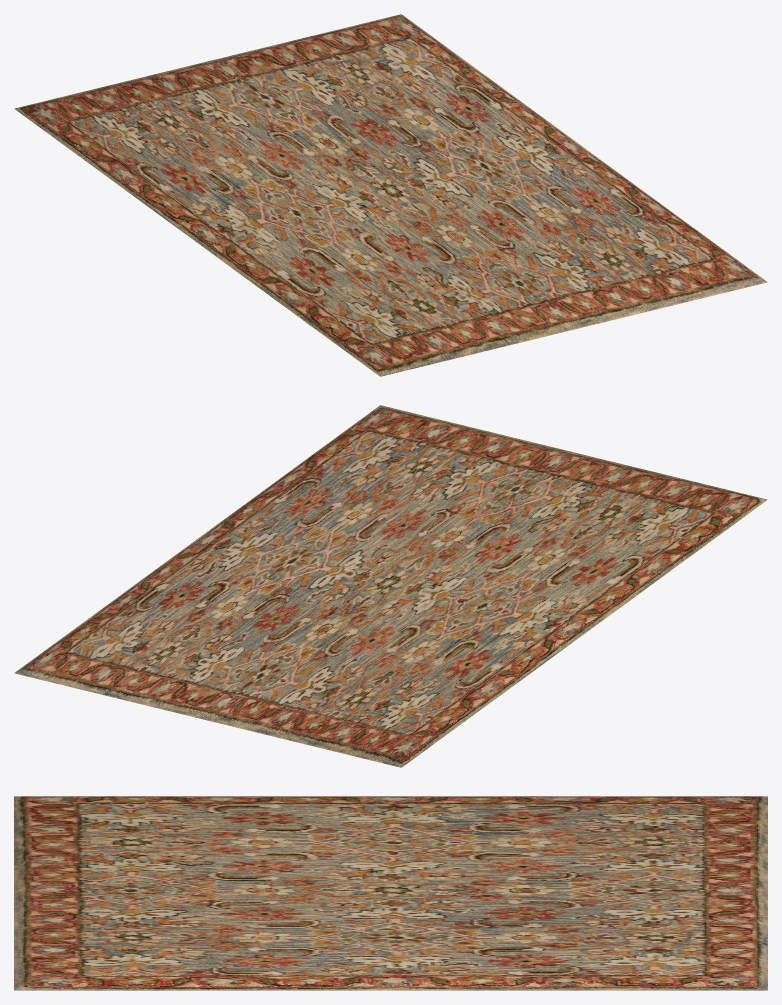
File: rug.fbx
3 views of the same model, one above another, from view 1: azimuth 30°, elevation 25°; view 2: azimuth 150°, elevation 25°; view 3: azimuth 270°, elevation 25° (orthographic). The views are drawn at different scales.
Visible parts, largest first — view 1: rug; view 2: rug; view 3: rug.
Part boxes in pixels (x1,y1,x2,y2): rug: (14,14,767,376); rug: (14,405,767,767); rug: (14,796,767,990).
Size of the model in its own units: 204 by 2 by 334.
1 material, 1 textured.
